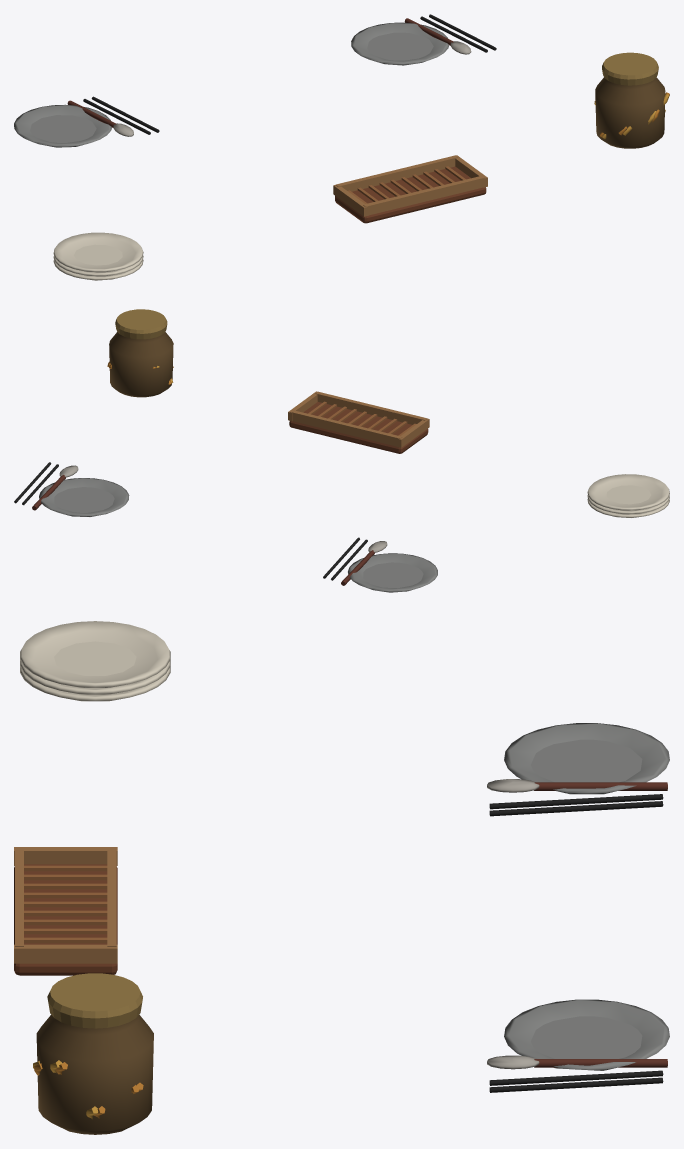
File: setting.glb
The picture shows the model from 3 angles, top to bottom: view 1: azimuth 30°, elevation 25°; view 2: azimuth 150°, elevation 25°; view 3: azimuth 270°, elevation 25°; orthographic projection. The views are drawn at different scales.
Parts seen in each view (by area): view 1: FP218_setting; view 2: FP218_setting; view 3: FP218_setting.
Boxes of the visible parts, box(x1,y1,x2,y2) form: FP218_setting: box(14, 14, 669, 280); FP218_setting: box(14, 309, 669, 592); FP218_setting: box(14, 621, 669, 1134).
Size of the model in its own units: 1.27 by 0.148 by 0.7098.
